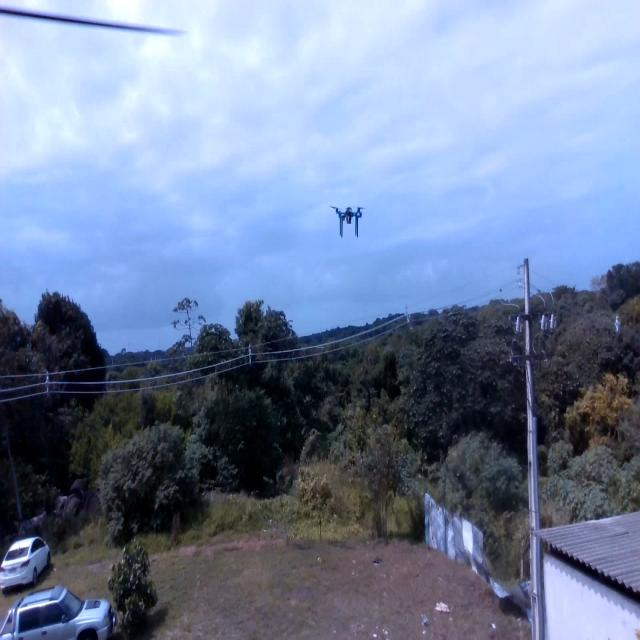-uav-: (324, 196, 372, 250)
